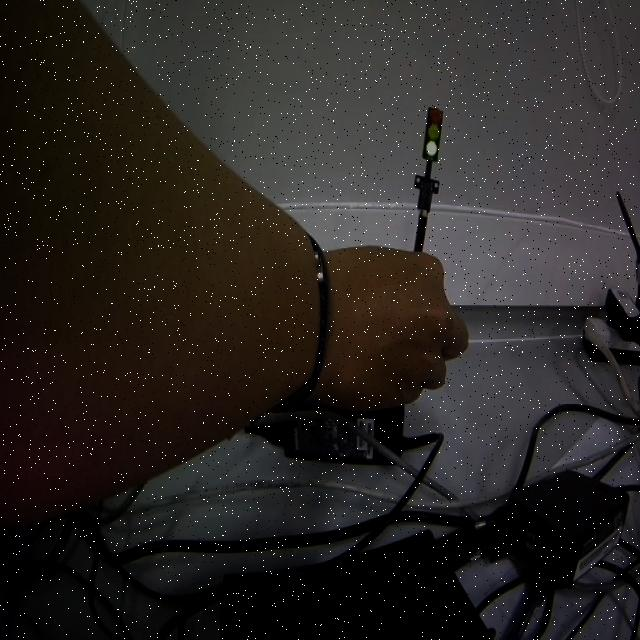Lampu Hijau: (422, 106, 444, 161)
